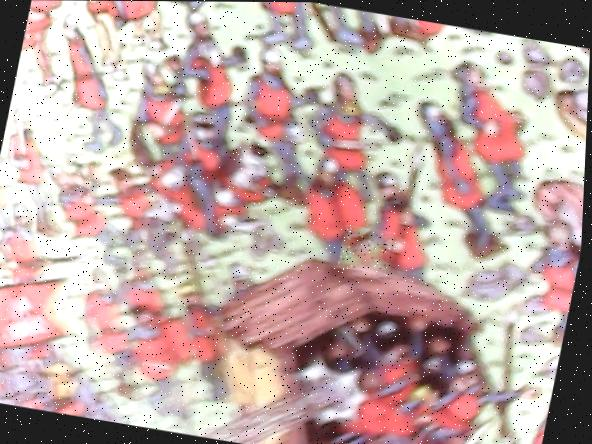waldo: (341, 224, 398, 274)
